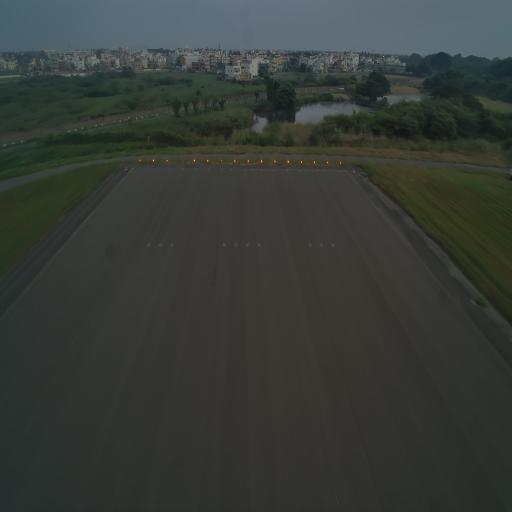off: (319, 240, 324, 250), (232, 242, 239, 249), (329, 242, 335, 249), (308, 240, 312, 250), (146, 240, 150, 248), (170, 240, 174, 248), (222, 241, 226, 249), (257, 240, 261, 248), (158, 242, 162, 248), (246, 242, 250, 248), (273, 167, 276, 174), (250, 168, 255, 172), (168, 166, 171, 172), (181, 166, 184, 172), (260, 168, 264, 172), (311, 168, 314, 173), (182, 160, 184, 166), (194, 167, 197, 171), (208, 166, 210, 172), (230, 166, 232, 172), (299, 168, 301, 174), (220, 167, 222, 171), (237, 168, 239, 172), (244, 168, 246, 172), (286, 168, 288, 172)
on: (286, 158, 290, 166), (312, 159, 316, 167), (338, 158, 342, 166), (164, 158, 169, 164), (272, 158, 277, 164), (300, 159, 304, 166), (124, 166, 128, 172), (152, 158, 156, 164), (192, 157, 196, 163), (220, 156, 223, 164), (233, 158, 237, 164), (246, 158, 250, 164), (206, 158, 209, 165), (260, 157, 263, 164), (326, 160, 329, 166), (353, 166, 355, 175), (139, 156, 141, 164)
